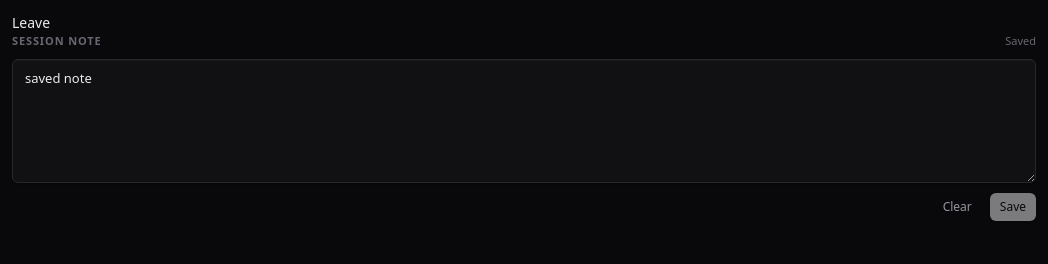
Scenario: NoteEditor › keeps the draft when saving fails
Type "!" into the text box named "Session note". click: (524, 121)
box: x1=12 y1=59 x2=1036 y2=183
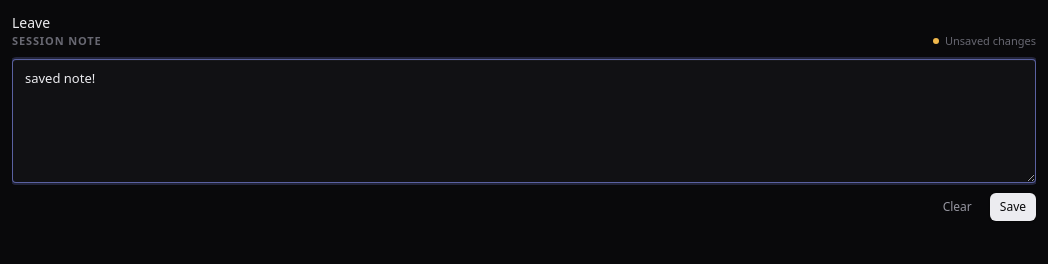
Click the button "Save". click: click(1013, 207)
box: x1=990 y1=193 x2=1036 y2=221
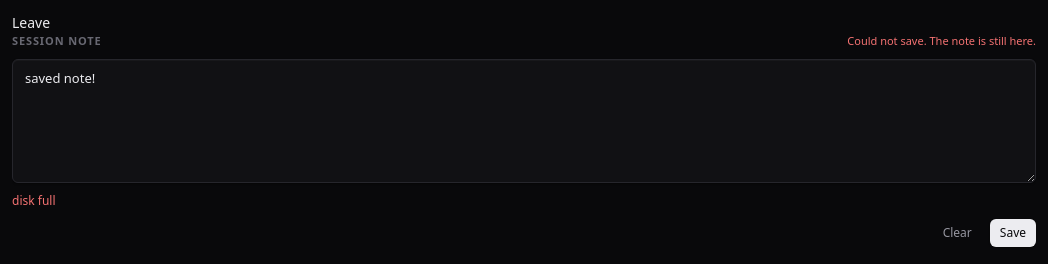
Expected: the text box named "Session note" holds "saved note!", x1=12 y1=59 x2=1036 y2=183
Expected: the text "Could not save. The note is still here." is shown, x1=847 y1=33 x2=1036 y2=49
